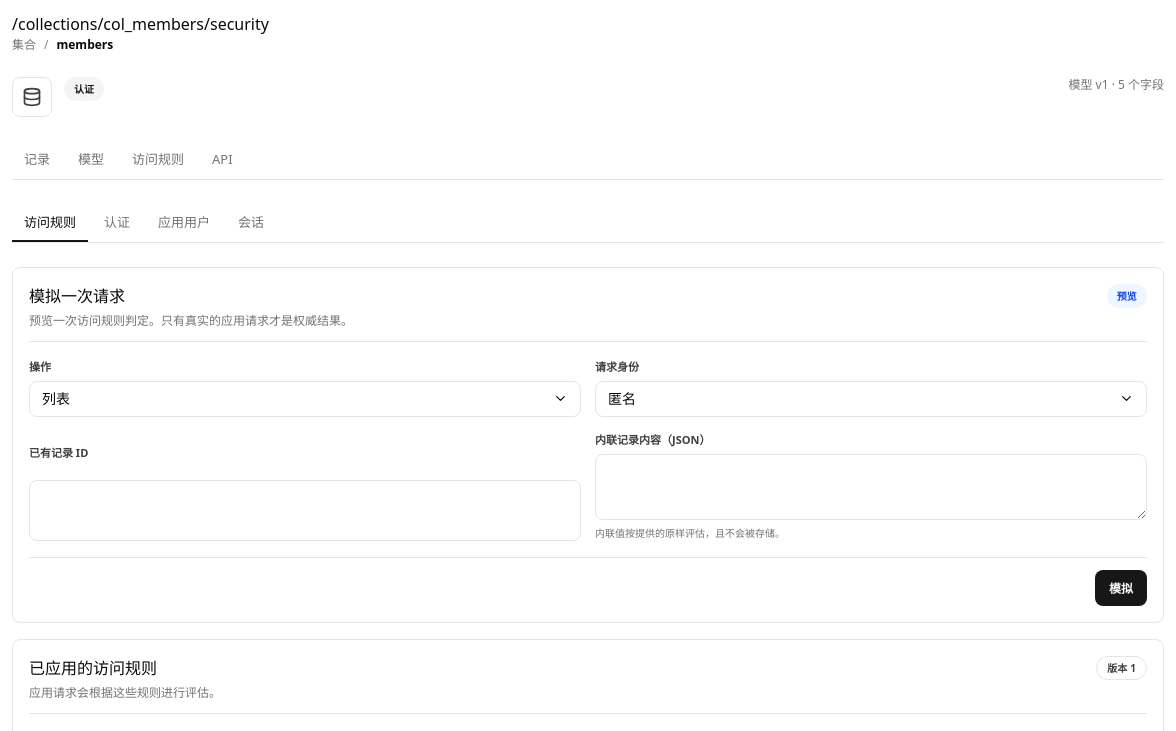
Test: Collection Records and Security pages › renders Collection Security, Access Rules, App Users and Sessions in Simplified Chinese
The width and height of the screenshot is (1176, 731).
Expected: the tab "访问规则" is shown, [12,204,88,242]
Expected: the tab "认证" is shown, [92,204,142,242]
Click the dropdown named "请求身份".
click(622, 398)  # box [595,381,1147,417]
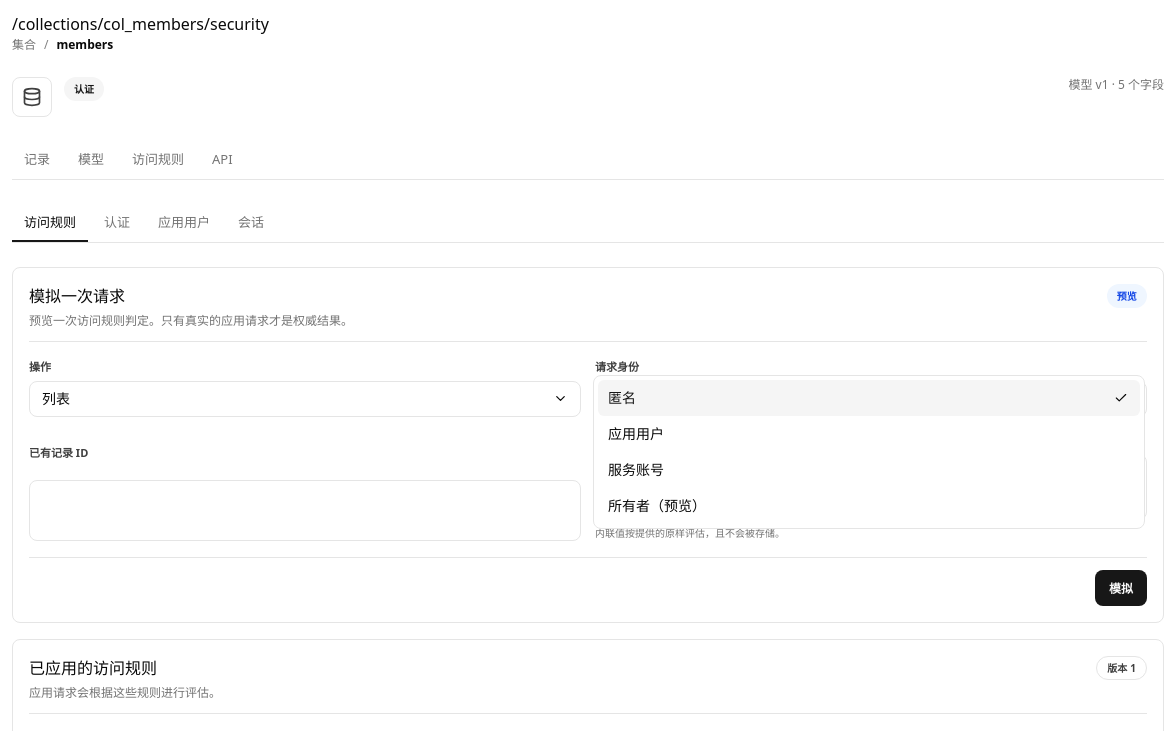
Result: the option "所有者（预览）" is shown at [608,496,706,515]
Press Escape
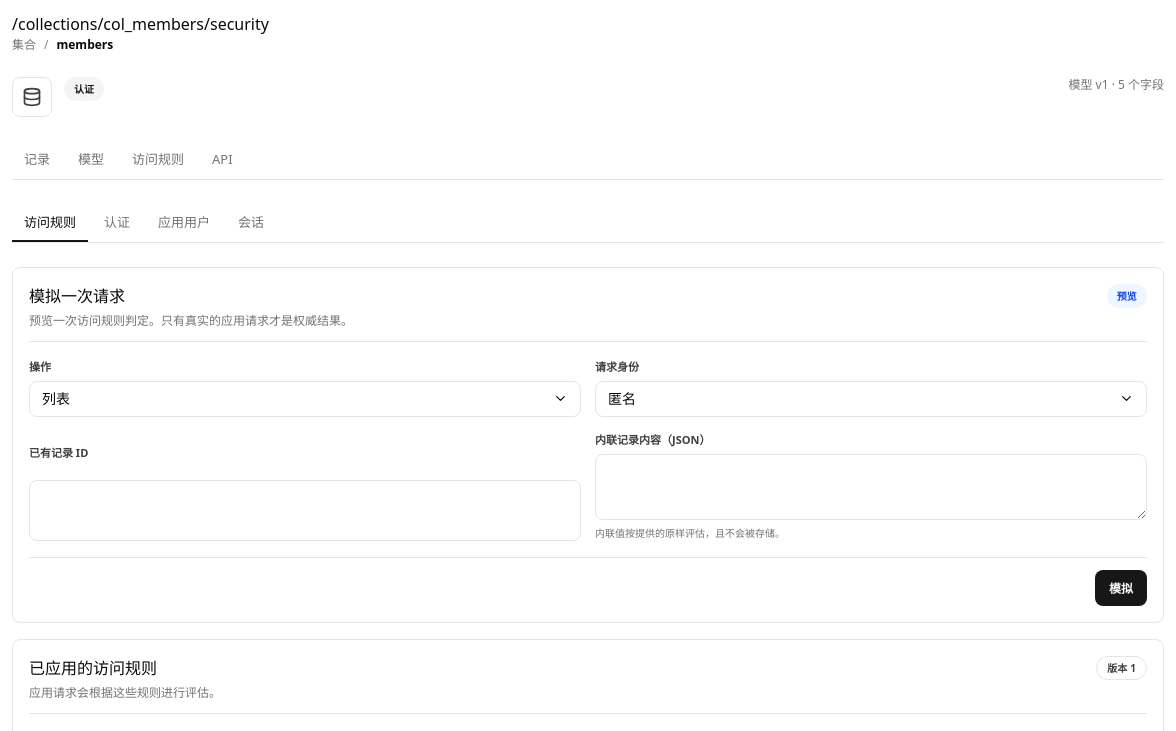
Click the dropdown named "请求身份".
click(622, 398)  # box [595,381,1147,417]
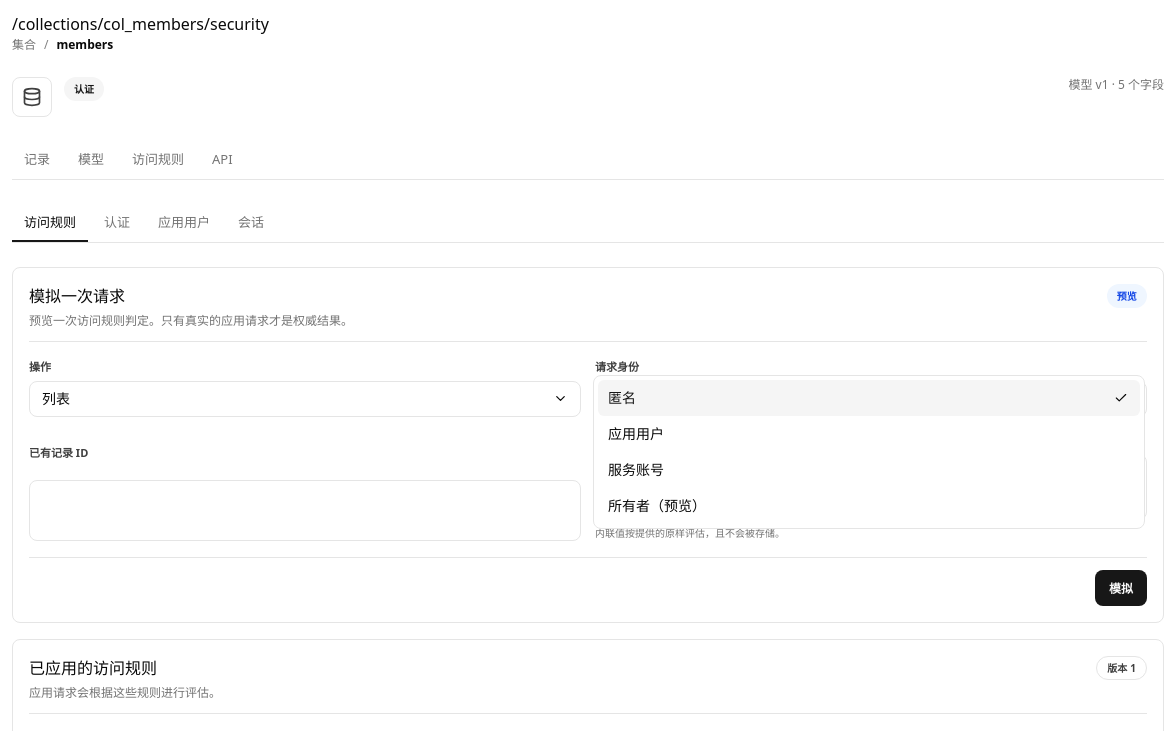
Click the option "应用用户".
click(636, 433)  # box [608,424,664,443]
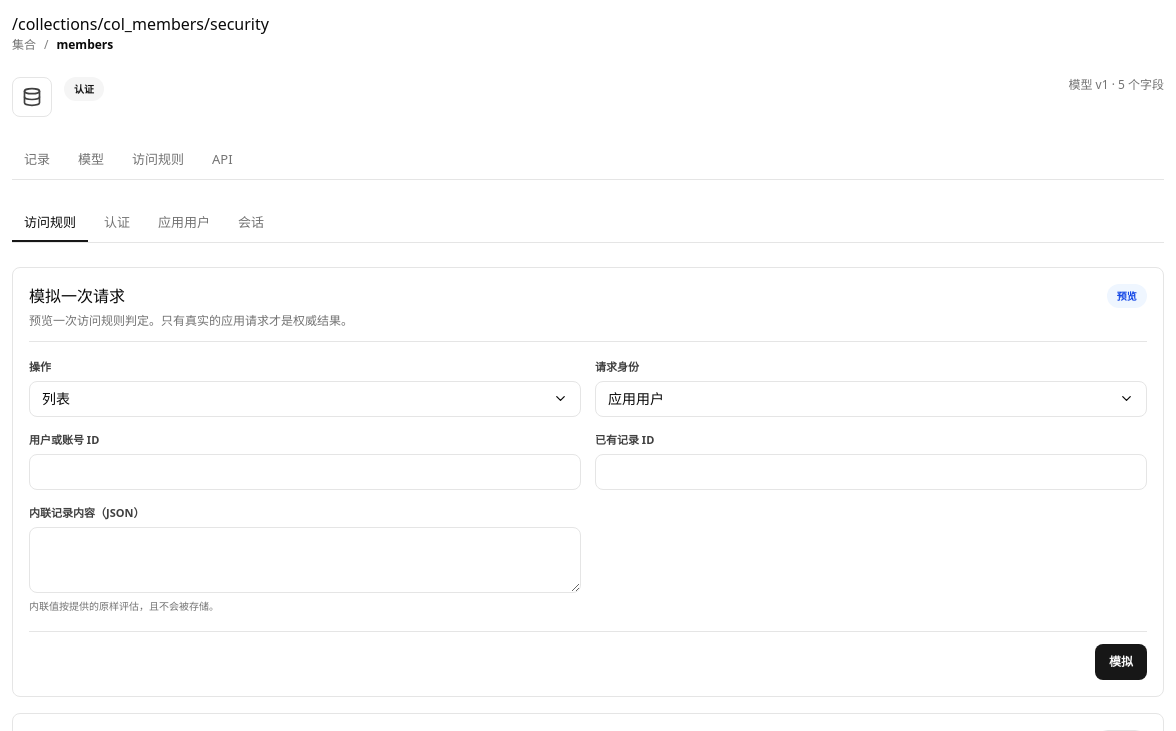
Result: the field labelled "用户或账号 ID" is shown at [29,454,581,490]
Click the tab "应用用户".
click(184, 223)  # box [146,204,222,242]
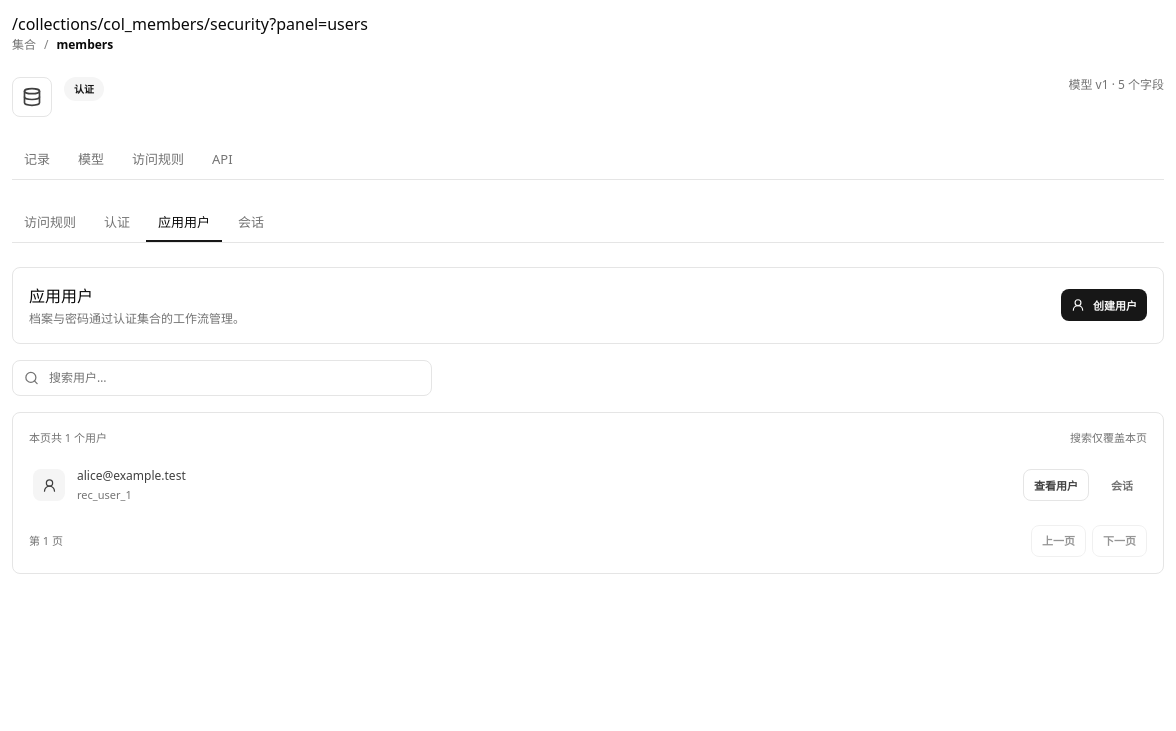
Result: the heading "应用用户" is shown at [29,285,93,307]
Result: the search field labelled "搜索用户" is shown at [12,360,432,396]
Result: the text "alice@example.test" is shown at [77,467,186,484]
